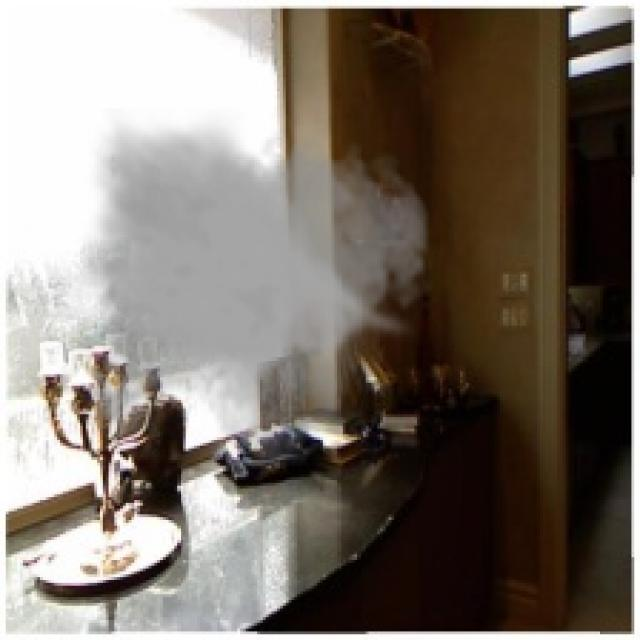Smoke: (77, 108, 434, 466)
